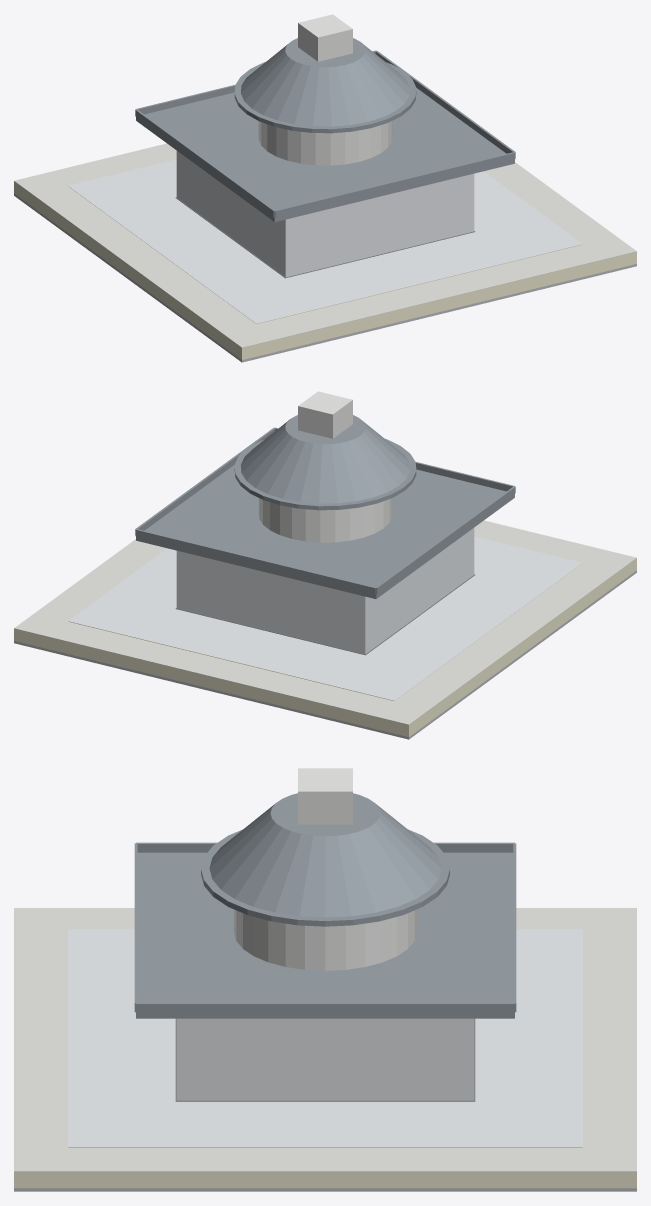
Rendered from kitchen-exhaust-fan-CS-1-TYP.glb.
The picture shows the model from 3 angles, top to bottom: view 1: azimuth 30°, elevation 25°; view 2: azimuth 150°, elevation 25°; view 3: azimuth 270°, elevation 25°; orthographic projection. The views are drawn at different scales.
Parts seen in each view (by area): view 1: topcoat__field_apron, existing__membrane, existing__unit_tray, topcoat__curb_wrap, existing__unit_cowl, existing__insulation, existing__unit_housing, existing__unit_motor, existing__unit_tray_lip_1, existing__unit_cowl_rim, existing__steel_deck, existing__unit_tray_lip_3 (+2 smaller); view 2: topcoat__field_apron, existing__membrane, existing__unit_tray, topcoat__curb_wrap, existing__unit_cowl, existing__insulation, existing__unit_housing, existing__unit_motor, existing__unit_tray_lip_0, existing__unit_cowl_rim, existing__steel_deck, existing__unit_tray_lip_3 (+2 smaller); view 3: topcoat__field_apron, existing__membrane, existing__unit_tray, topcoat__curb_wrap, existing__unit_cowl, existing__insulation, existing__unit_housing, existing__unit_tray_lip_2, existing__unit_cowl_rim, existing__unit_motor, existing__steel_deck, existing__unit_tray_lip_3 (+3 smaller).
Boxes of the visible parts, box(x1,y1,x2,y2) form: topcoat__field_apron: box(68, 159, 582, 323); existing__membrane: box(14, 143, 636, 347); existing__unit_tray: box(136, 88, 514, 221); topcoat__curb_wrap: box(176, 151, 474, 277); existing__unit_cowl: box(240, 38, 410, 126); existing__insulation: box(14, 181, 636, 359); existing__unit_housing: box(258, 121, 392, 165); existing__unit_motor: box(298, 14, 352, 61); existing__unit_tray_lip_1: box(274, 152, 515, 217); existing__unit_cowl_rim: box(234, 62, 416, 133); existing__steel_deck: box(14, 193, 636, 362); existing__unit_tray_lip_3: box(135, 109, 274, 217); topcoat__field_apron: box(68, 536, 582, 700); existing__membrane: box(14, 520, 636, 724); existing__unit_tray: box(136, 465, 514, 598); topcoat__curb_wrap: box(176, 528, 474, 654); existing__unit_cowl: box(240, 415, 410, 503); existing__insulation: box(14, 558, 636, 736); existing__unit_housing: box(258, 498, 392, 542); existing__unit_motor: box(298, 391, 352, 438); existing__unit_tray_lip_0: box(135, 529, 376, 594); existing__unit_cowl_rim: box(234, 439, 416, 510); existing__steel_deck: box(14, 570, 636, 739); existing__unit_tray_lip_3: box(376, 486, 515, 594); topcoat__field_apron: box(68, 929, 582, 1147); existing__membrane: box(14, 908, 636, 1171); existing__unit_tray: box(136, 852, 514, 1018); topcoat__curb_wrap: box(176, 1018, 474, 1100); existing__unit_cowl: box(209, 793, 441, 917); existing__insulation: box(14, 1171, 636, 1188); existing__unit_housing: box(234, 909, 416, 970); existing__unit_tray_lip_2: box(136, 1002, 514, 1012); existing__unit_cowl_rim: box(201, 829, 449, 926); existing__unit_motor: box(298, 768, 352, 824); existing__steel_deck: box(14, 1188, 636, 1191); existing__unit_tray_lip_3: box(136, 842, 514, 852).
Size of the model in its own units: 2.59 by 1.29 by 2.59.
